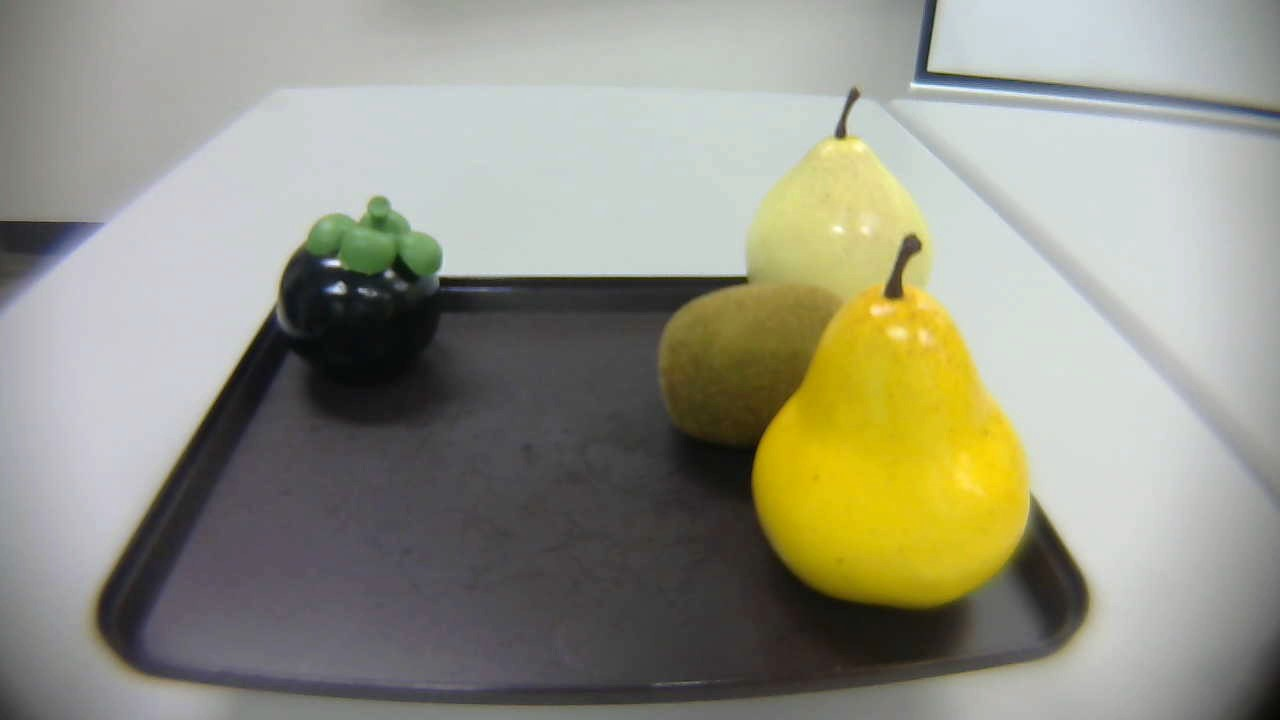kiwi fruit: (635, 276, 868, 461)
mangosteen: (273, 196, 451, 393)
western pear: (740, 88, 943, 321)
yellow pear: (752, 233, 1043, 624)
